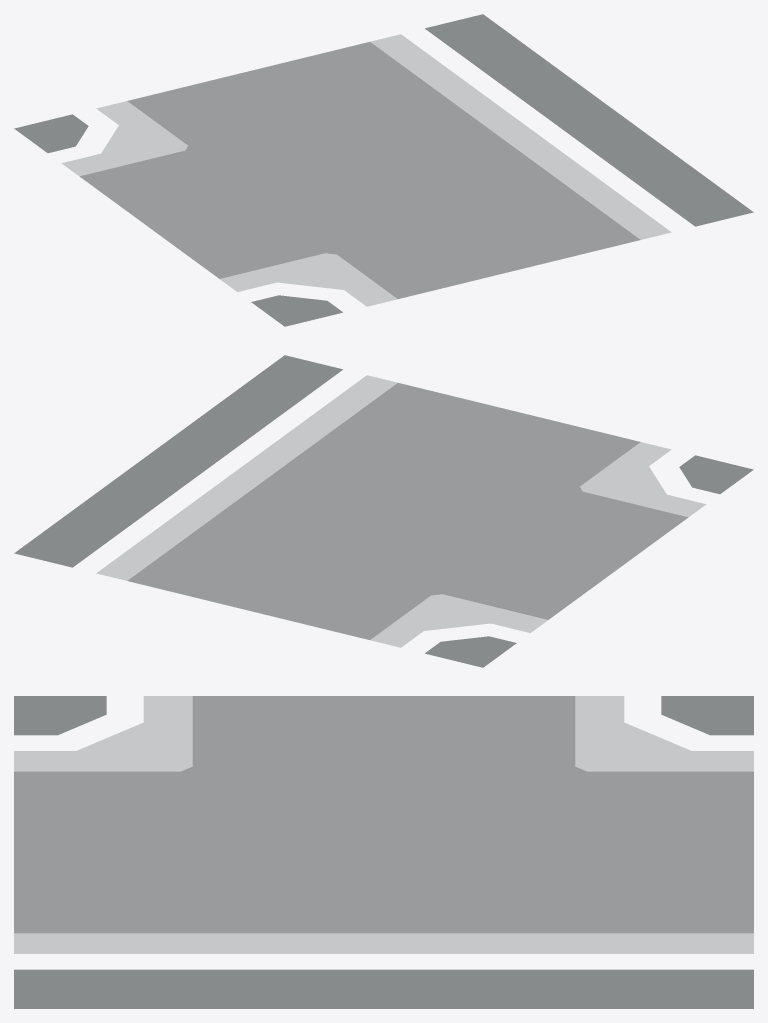
The model's file is Ceiling_type_A_052_004.glb.
3 views of the same model, one above another, from view 1: azimuth 30°, elevation 25°; view 2: azimuth 150°, elevation 25°; view 3: azimuth 270°, elevation 25° (orthographic). The views are drawn at different scales.
Parts seen in each view (by area): view 1: Ceiling_type_A_052.004; view 2: Ceiling_type_A_052.004; view 3: Ceiling_type_A_052.004.
Boxes of the visible parts, x1,y1,x2,y2 form: Ceiling_type_A_052.004: [14, 14, 753, 326]; Ceiling_type_A_052.004: [14, 355, 753, 667]; Ceiling_type_A_052.004: [14, 696, 753, 1008].
Size of the model in its own units: 4 by 0.035 by 4.
Materials: 2 (2 with a texture image).
